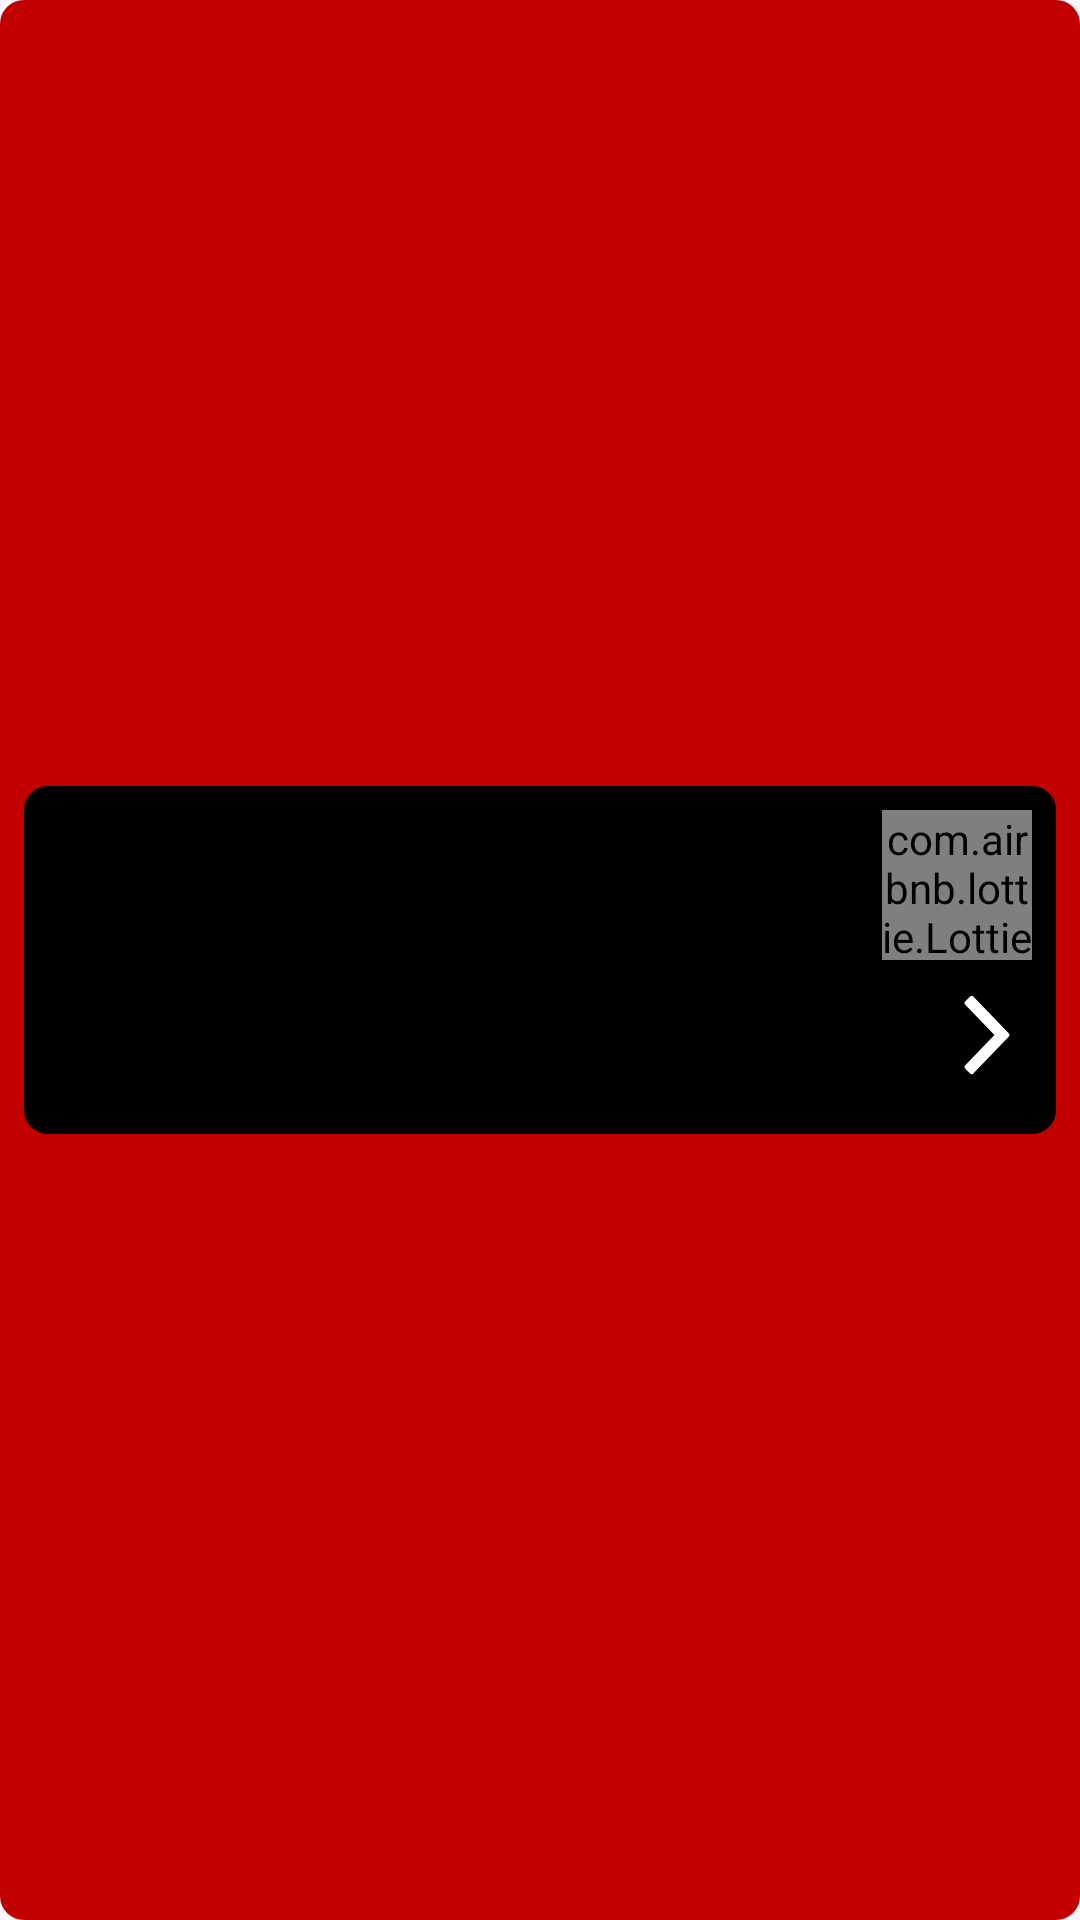

Locate icon controls on the screen. Image size 1080*1920, boxes as (x1=x1, y1=y1, x2=x2, y2=y2).
rightarrow: (x1=964, y1=995, x2=1010, y2=1075)
